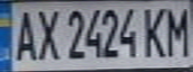2: (63, 4, 84, 61), (100, 4, 121, 58)
4: (118, 4, 142, 58), (81, 4, 103, 61)
A: (9, 6, 39, 62)
K: (139, 3, 169, 59)
M: (160, 3, 193, 57)
X: (33, 5, 63, 62)
